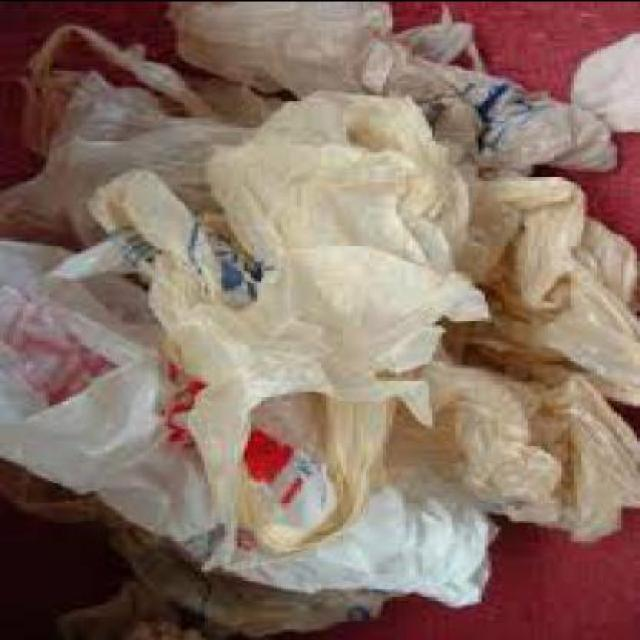PLASTIC: (86, 92, 488, 560), (0, 239, 495, 612), (155, 2, 610, 178), (0, 25, 294, 247), (369, 350, 637, 544), (442, 165, 636, 390), (455, 30, 637, 178)
